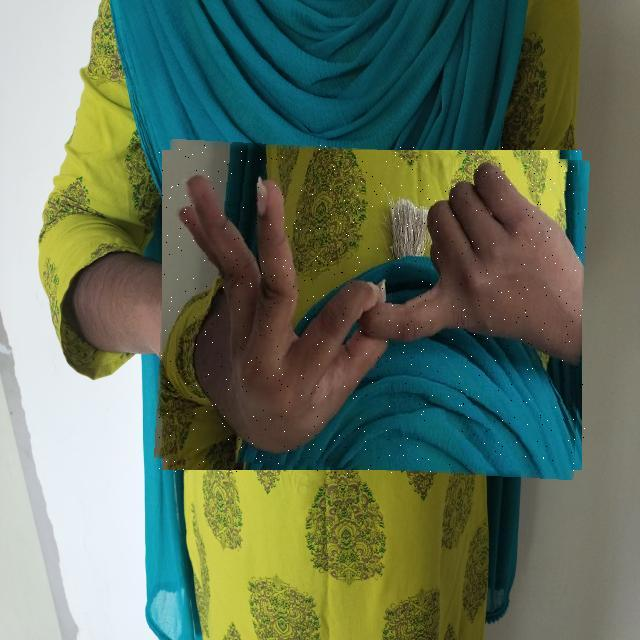Q: (158, 145, 586, 475)
